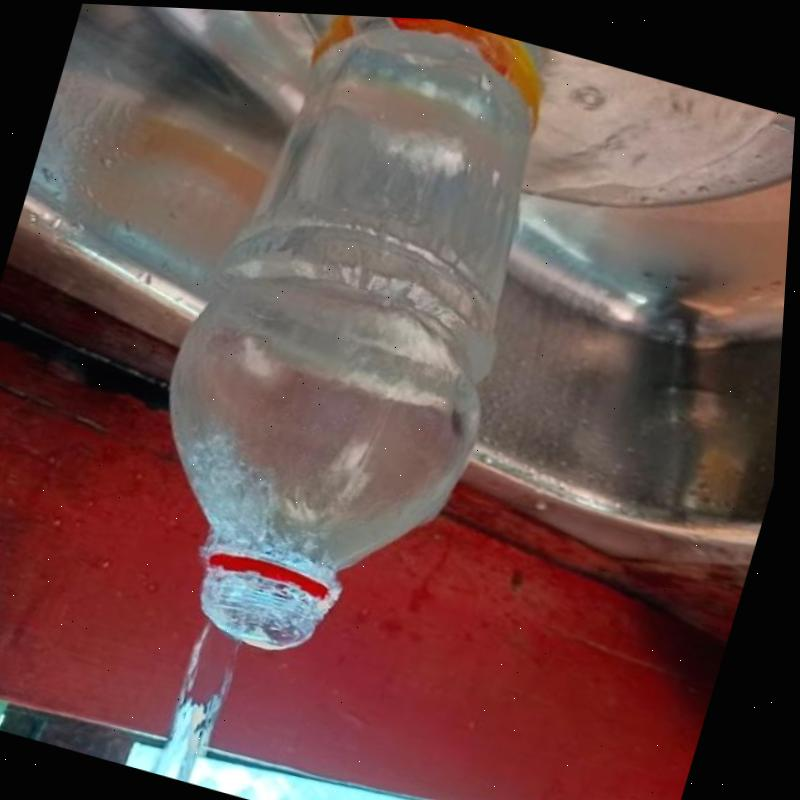botella: (109, 5, 591, 684)
